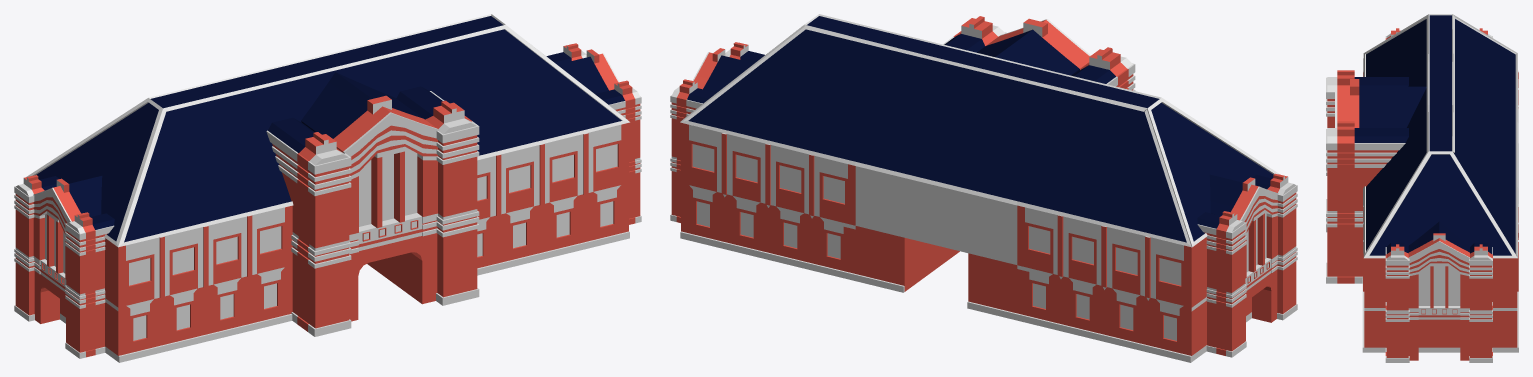
The model's file is Taichung.fbx.
The picture shows the model from 3 angles, left to right: view 1: azimuth 30°, elevation 25°; view 2: azimuth 150°, elevation 25°; view 3: azimuth 270°, elevation 25°; orthographic projection. The views are drawn at different scales.
Visible parts, largest first — view 1: Cube; view 2: Cube; view 3: Cube.
Part boxes in pixels (x1,y1,x2,y2): Cube: (14, 14, 641, 362); Cube: (670, 14, 1297, 362); Cube: (1326, 14, 1518, 362).
Bounding box in the file's own units: 2002 × 697 × 726.
